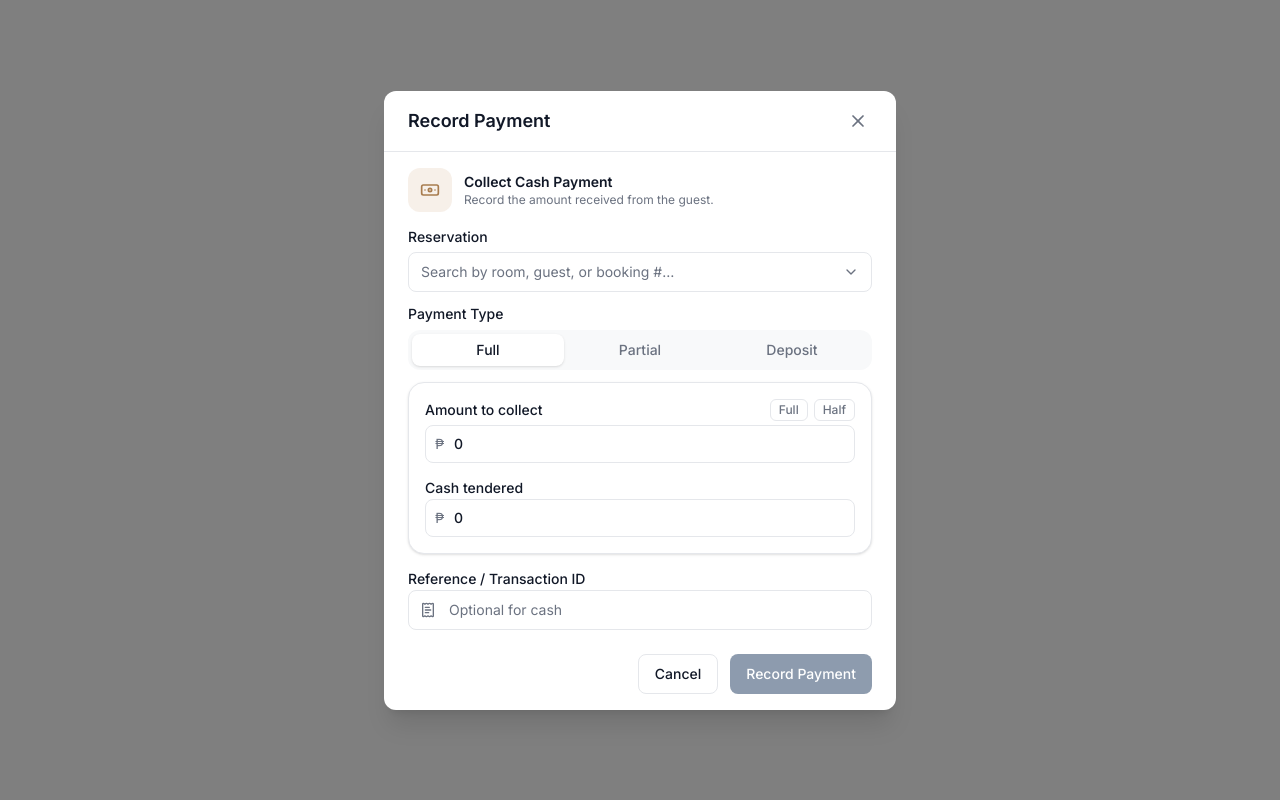
PaymentModal › filters the reservation list by guest name and booking number
Click the button "Search by room, guest, or booking #…": (640,272) [408,252,872,292]
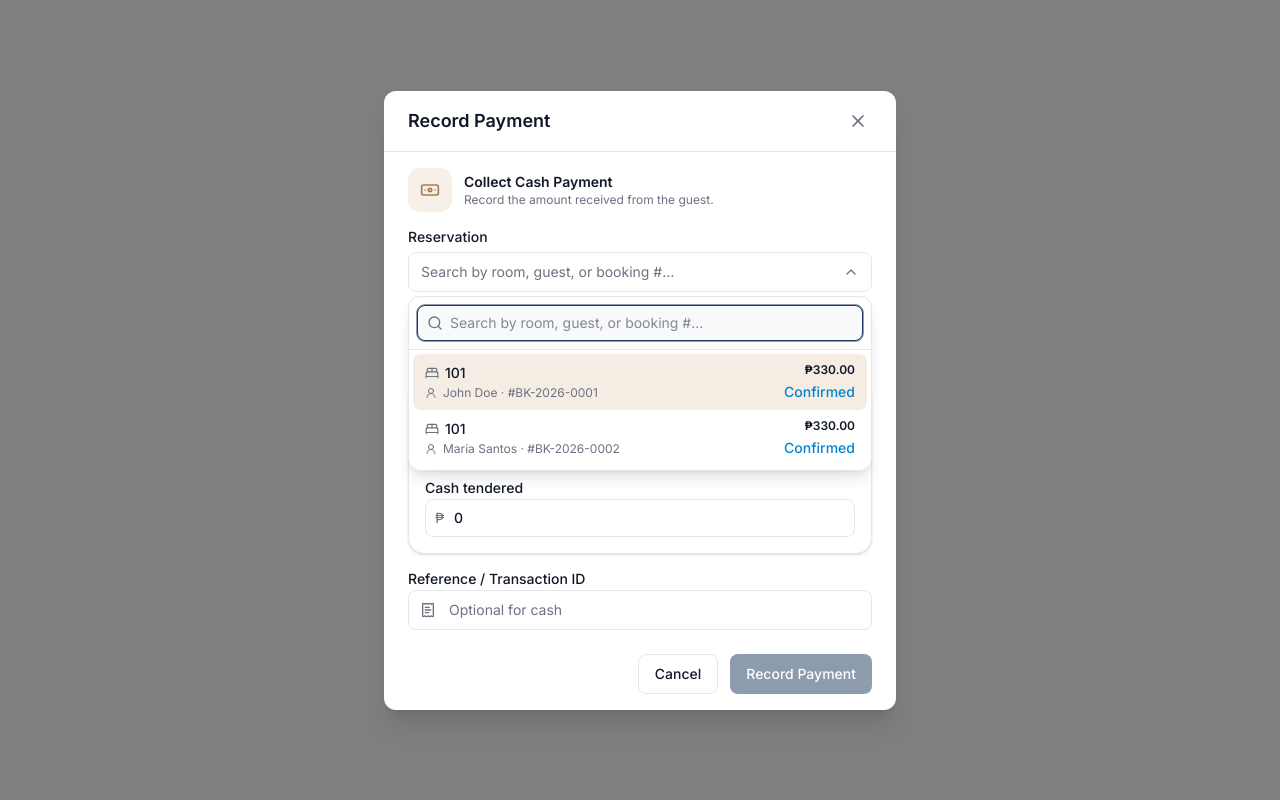
In the field named "Search reservations": (640,322) [417,304,863,340], type "maria"
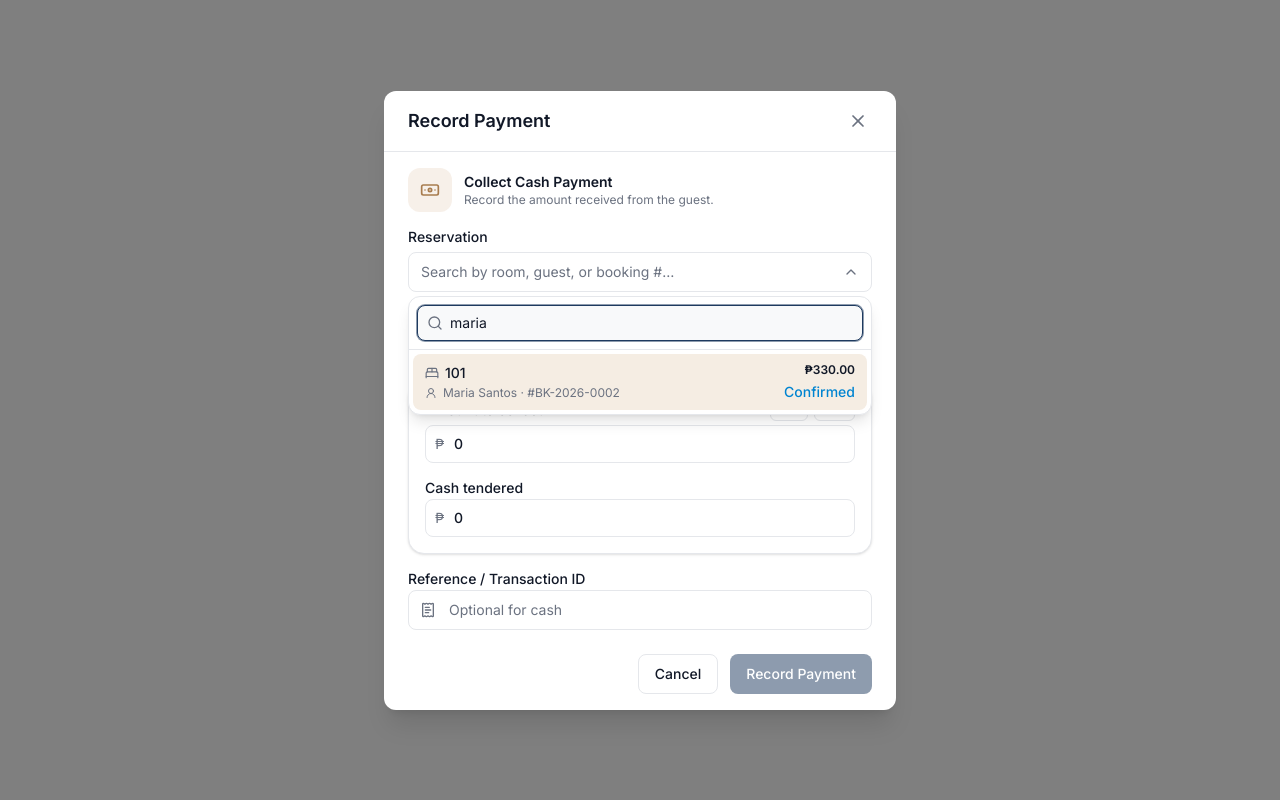
Expected: the button "101 Maria Santos · #BK-2026-0002 ₱330.00 Confirmed" is shown, [413,354,867,410]
Expected: the button "John Doe" is gone
Replace the text in the field named "Search reservations" with "BK-2026-0001": (640,322) [417,304,863,340]
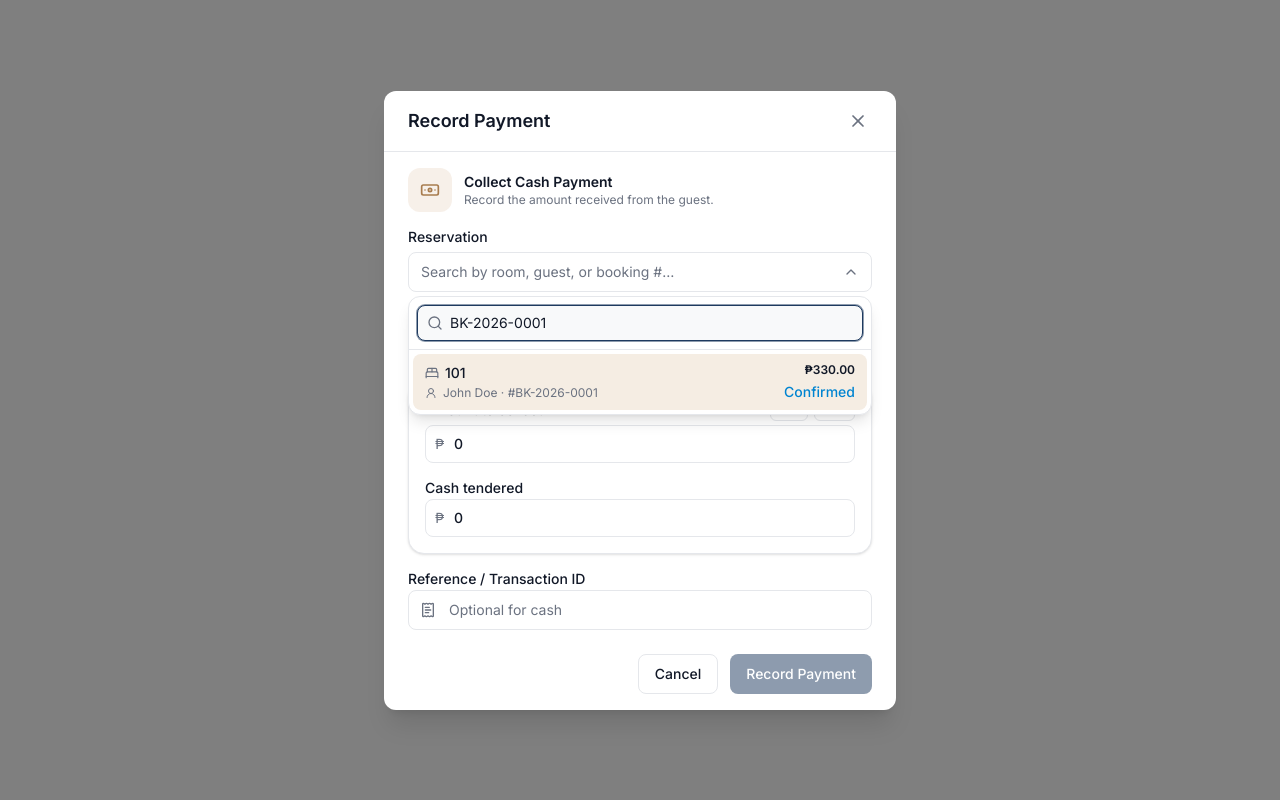
Expected: the button "101 John Doe · #BK-2026-0001 ₱330.00 Confirmed" is shown, [413,354,867,410]
Expected: the button "Maria Santos" is gone
